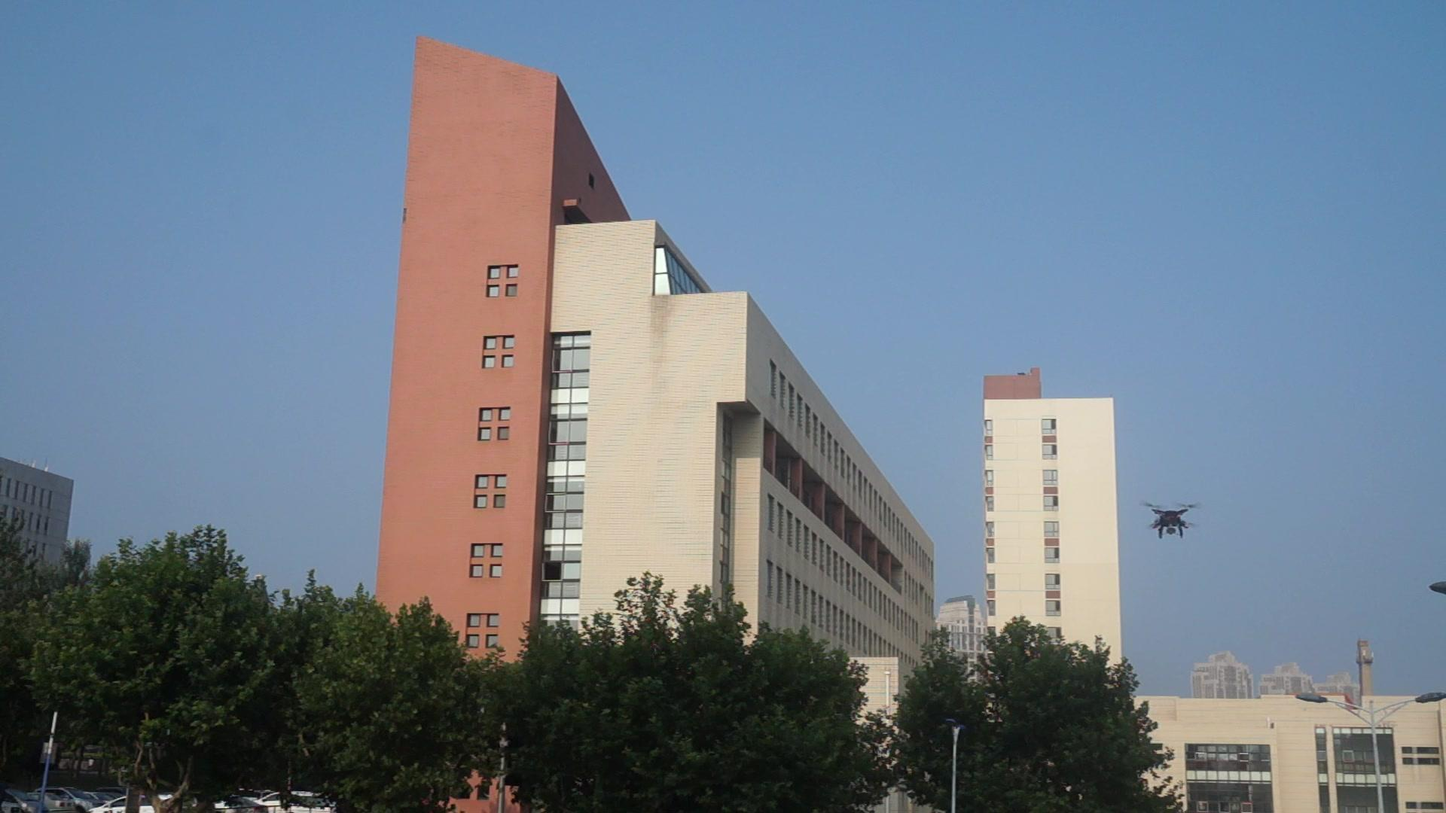UAV: (1139, 500, 1202, 540)
